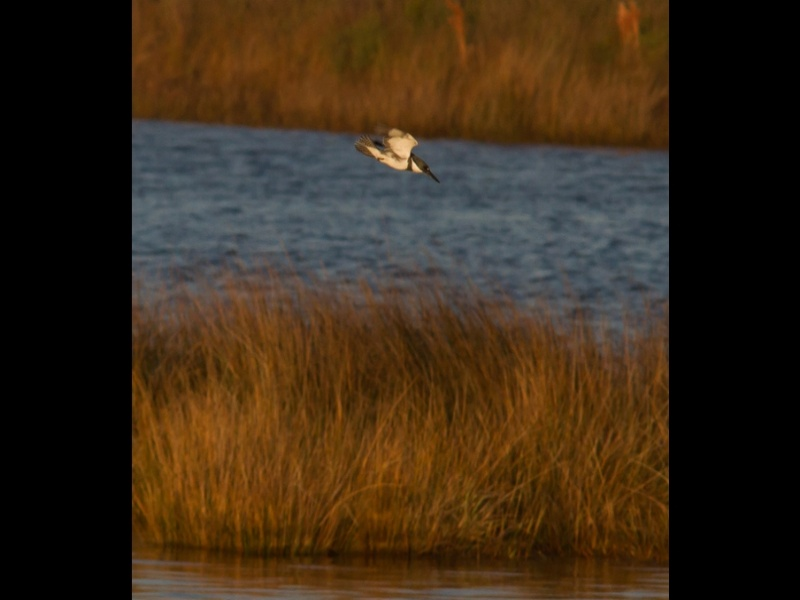kingfisher: (356, 126, 443, 186)
